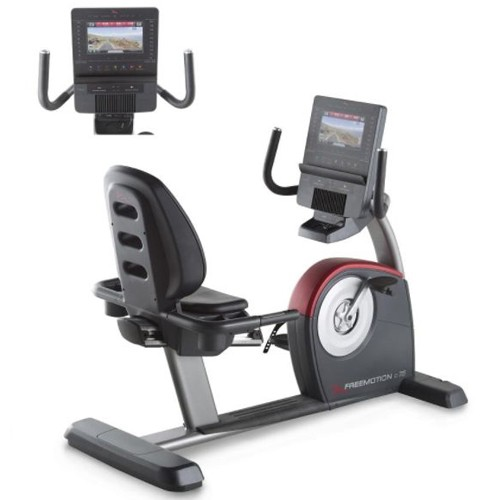gym_bike: (60, 76, 477, 492)
